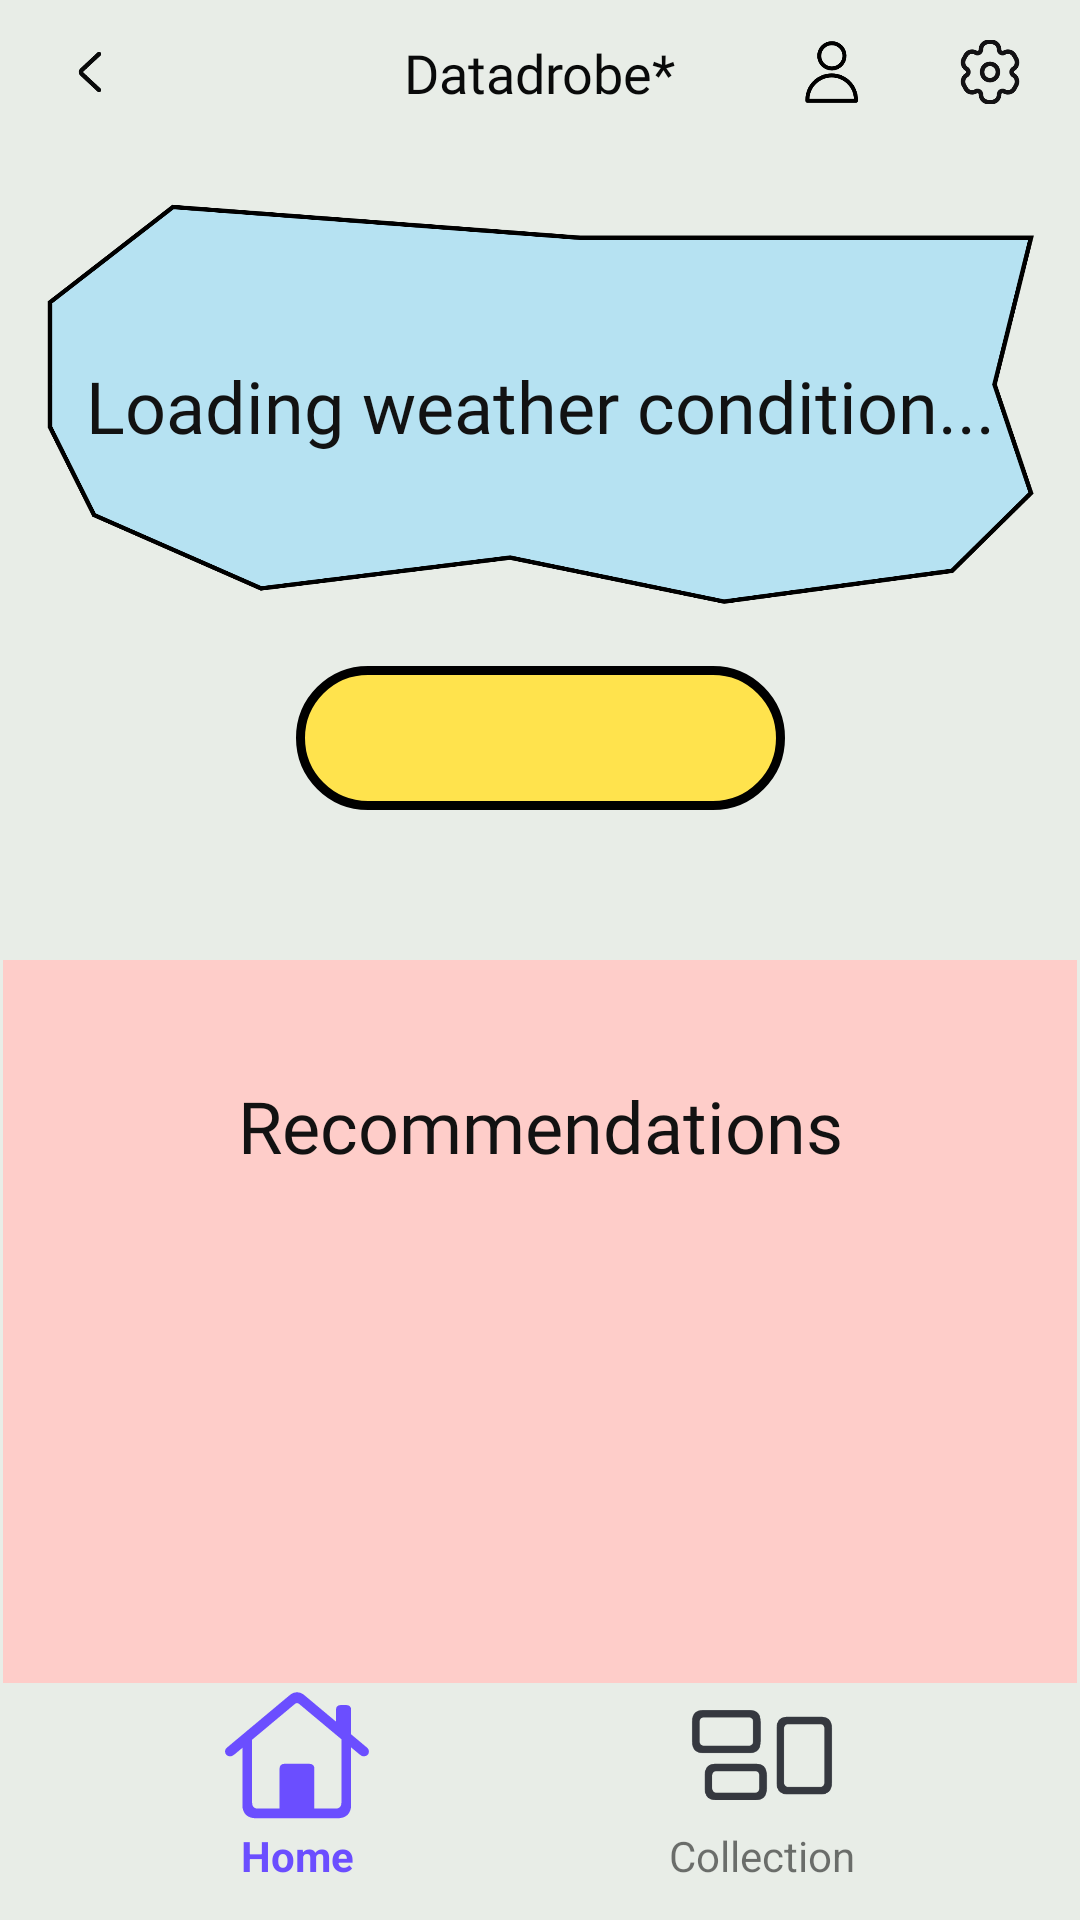

Point at icon controls on the screen. Image size 1080 x 1920, points as (x=x, y=y).
left actionable: (x=90, y=72)
settings: (x=990, y=72)
user profile: (x=831, y=72)
